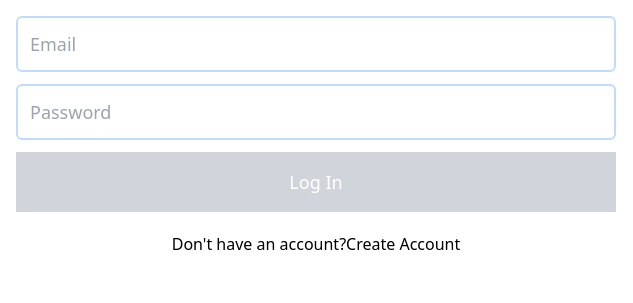
it: Login › displays email validation errors
Type "happy@gmail" into the field with placeholder "Email" at (316, 44), box [16,16,616,72]
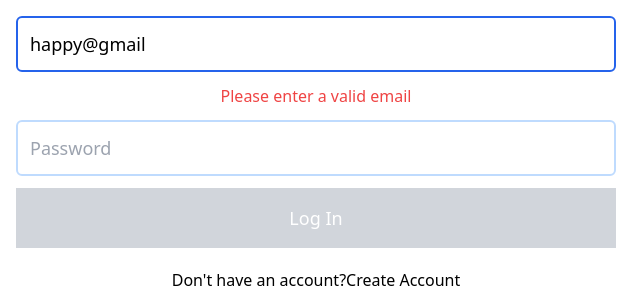
Expected: the message reads "Please enter a valid email", [221,85,412,107]
Clear the field with placeholder "Email" at (316, 44), box [16,16,616,72]
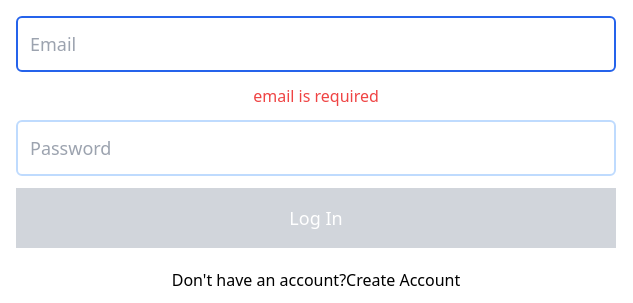
Expected: the message reads "email is required", [253,85,379,107]
